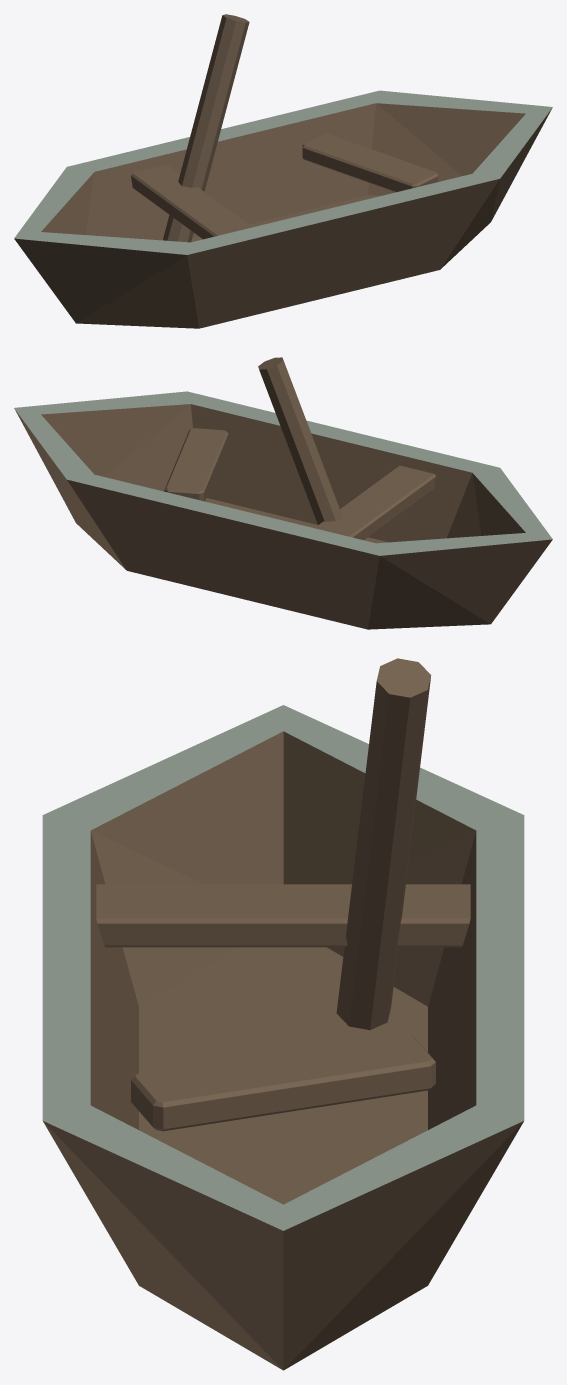
File: wreck-hull.glb
3 renders of one model, top to bottom at view 1: azimuth 30°, elevation 25°; view 2: azimuth 150°, elevation 25°; view 3: azimuth 270°, elevation 25°, orthographic. The views are drawn at different scales.
Visible parts, largest first — view 1: wreck-hull__body; view 2: wreck-hull__body; view 3: wreck-hull__body.
Part boxes in pixels (x1=…): wreck-hull__body: x1=14, y1=14, x2=552, y2=328; wreck-hull__body: x1=14, y1=357, x2=552, y2=629; wreck-hull__body: x1=42, y1=658, x2=524, y2=1370.
Bounding box in the file's own units: 3.1 × 1.32 × 1.2.
